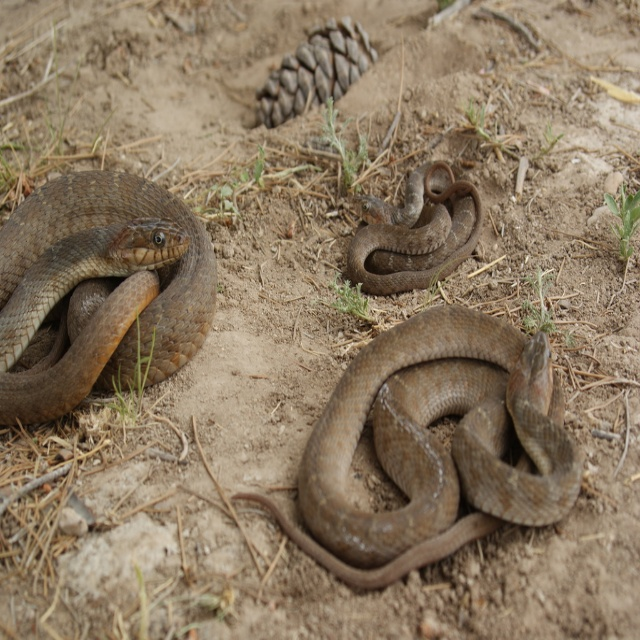Snake: (234, 304, 582, 588), (0, 169, 218, 423), (343, 155, 489, 290)
